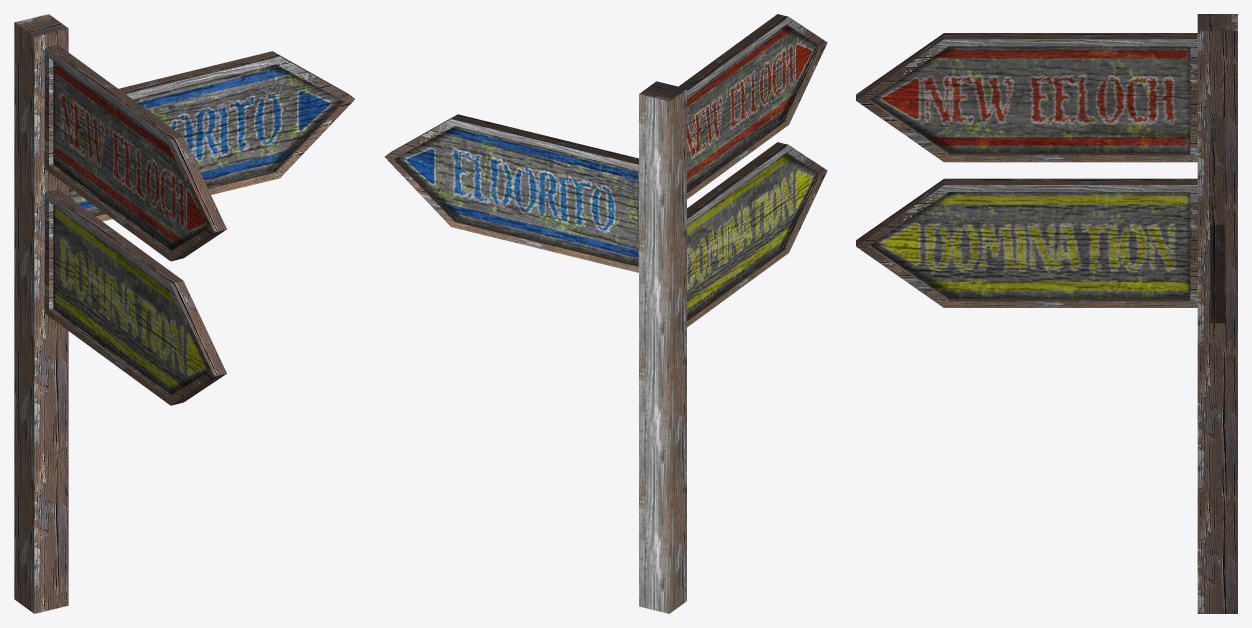
File: triplesign1.fbx
3 views of the same model, side by side, from view 1: azimuth 30°, elevation 25°; view 2: azimuth 150°, elevation 25°; view 3: azimuth 270°, elevation 25° (orthographic). The views are drawn at different scales.
Visible parts, largest first — view 1: triplesign1; view 2: triplesign1; view 3: triplesign1.
Part boxes in pixels (x1,y1,x2,y2): triplesign1: (14, 14, 354, 613); triplesign1: (384, 14, 827, 613); triplesign1: (856, 14, 1237, 613).
Bounding box in the file's own units: 15200 × 25600 × 15200.
